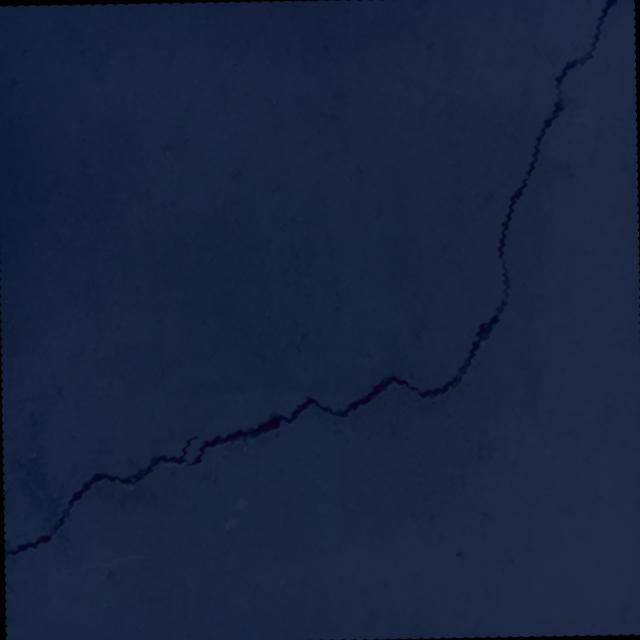crack: (0, 0, 631, 557), (3, 474, 23, 498)
